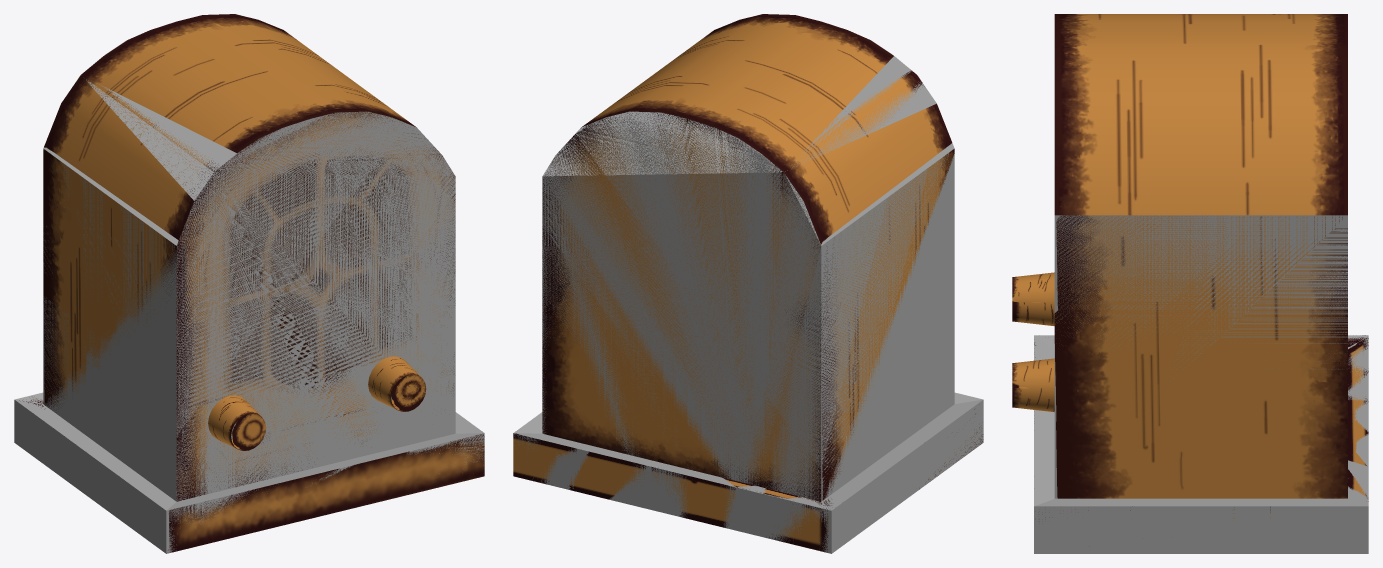
File: radio-export-try4.fbx
3 renders of one model, left to right at view 1: azimuth 30°, elevation 25°; view 2: azimuth 150°, elevation 25°; view 3: azimuth 270°, elevation 25°, orthographic. The views are drawn at different scales.
Visible parts, largest first — view 1: pasted__radio, radio1; view 2: pasted__radio, radio1; view 3: radio1, pasted__radio.
Boxes of the visible parts, x1,y1,x2,y2 form: pasted__radio: [14, 79, 484, 553]; radio1: [19, 14, 484, 552]; pasted__radio: [514, 56, 983, 553]; radio1: [513, 14, 983, 552]; radio1: [1012, 14, 1368, 521]; pasted__radio: [1034, 215, 1368, 553].
Size of the model in its own units: 1.72 by 2.02 by 1.52.
2 materials, 1 textured.
